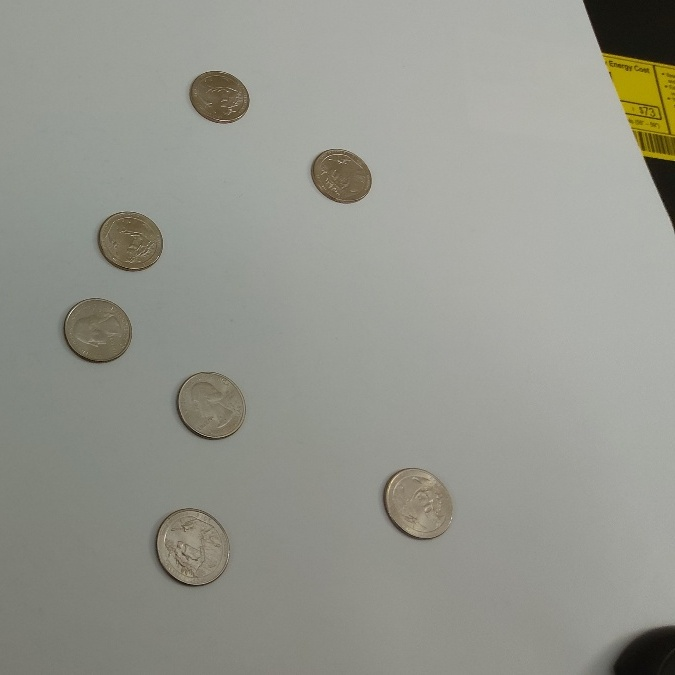coin_quarter: (154, 506, 233, 590), (172, 364, 250, 444), (380, 462, 458, 541), (93, 202, 167, 273), (61, 293, 134, 364), (303, 142, 377, 206), (180, 62, 254, 126)
